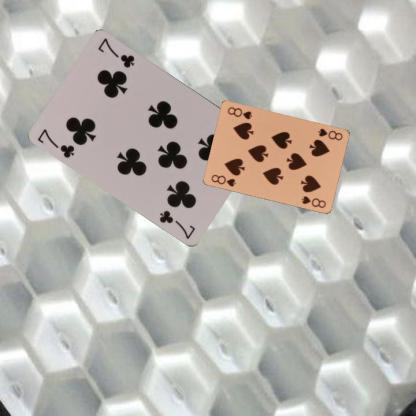7c: (36, 126, 76, 159)
8s: (208, 172, 238, 188), (315, 126, 344, 142)
